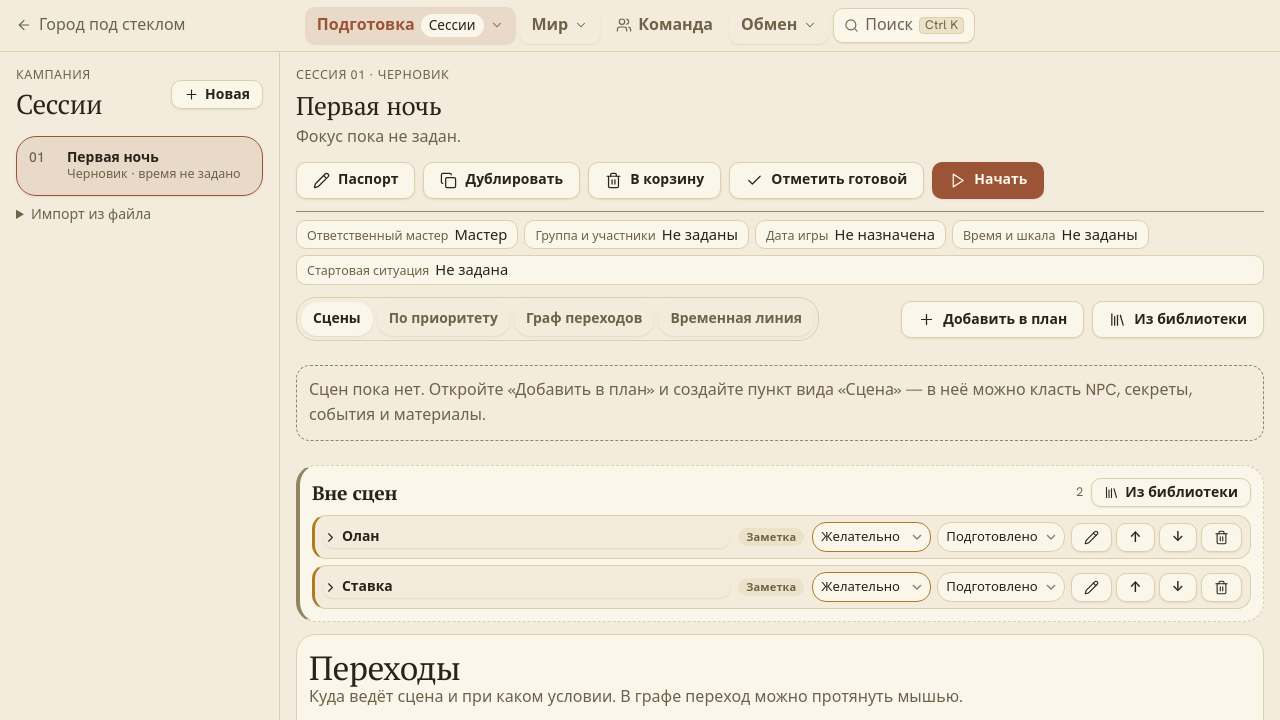
Scenario: ТЗ-3, этап 5: удаление — подтверждение или отмена › removes a lone plan item at once and brings it back with «Отменить»
What coordinates should you click on to do the following:
click the button named "Убрать Олан из сессии"
I would click on:
 (1222, 537)
Its box is [1201,522,1242,552].
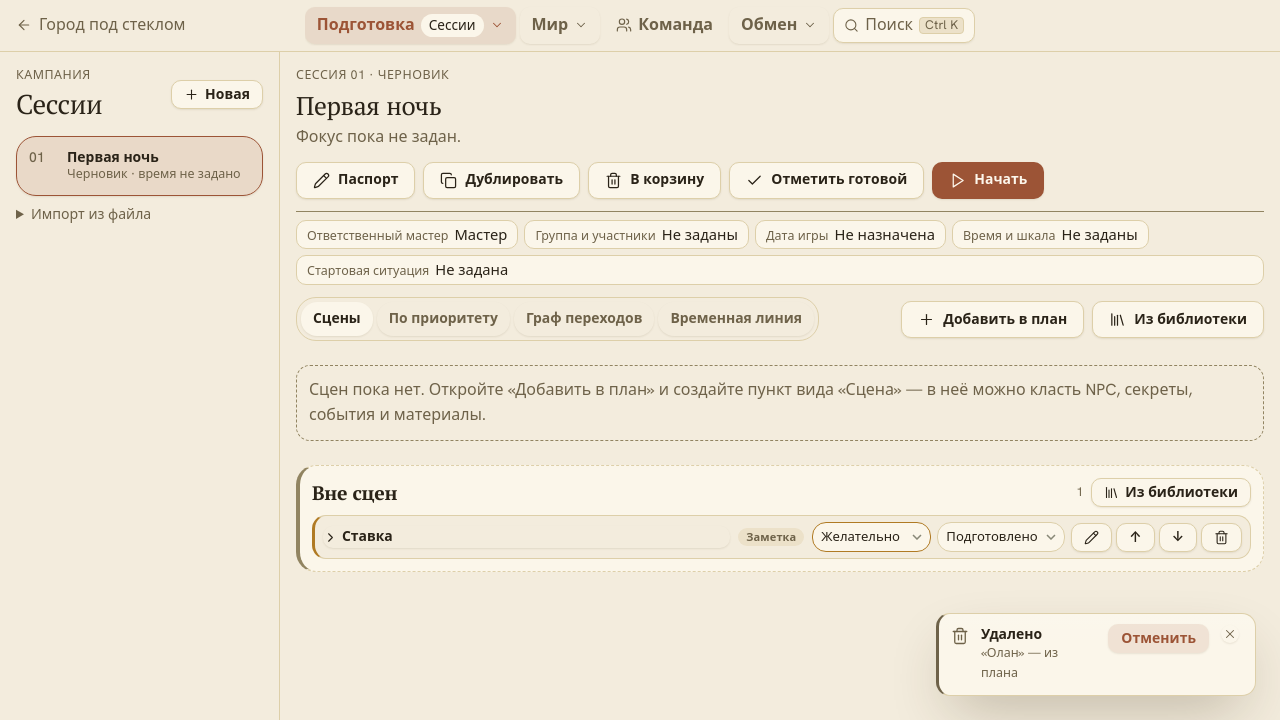
Result: the text "Пункт плана: Олан" is gone
Result: the text "Удалено" is shown at [981,624,1042,642]
What coordinates should you click on to do the following:
click the button "Отменить"
I would click on:
 (1159, 638)
Its box is [1108,624,1209,653].
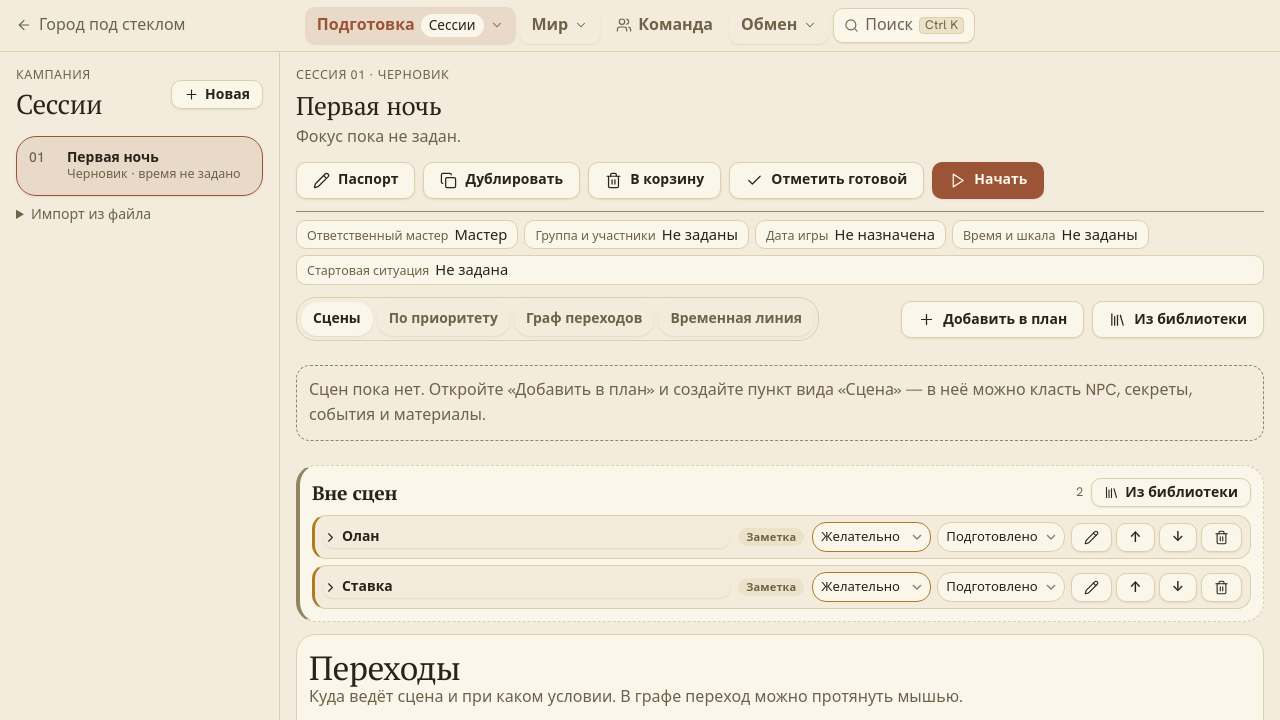
Result: the element named "Пункт плана: Олан" is shown at [312,515,1251,559]
Result: the text "«Олан» — из плана" is gone
